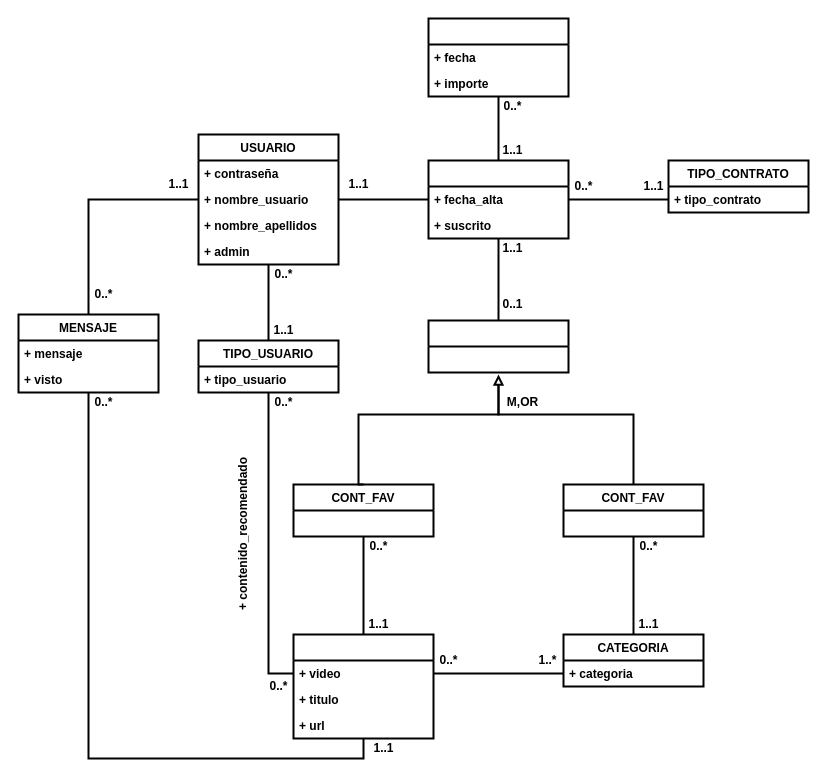
The diagram is 826 pixels wide and 777 high, and some of its shapes have lost their labels. Each missing label, with the box of its shape:
CONTENIDO: (292, 633, 434, 739)
CONTRATO: (427, 159, 569, 239)
FACTURA: (427, 17, 569, 97)
FAVORITOS: (427, 319, 569, 373)
